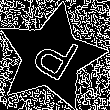P_SW: (22, 26, 80, 88)
